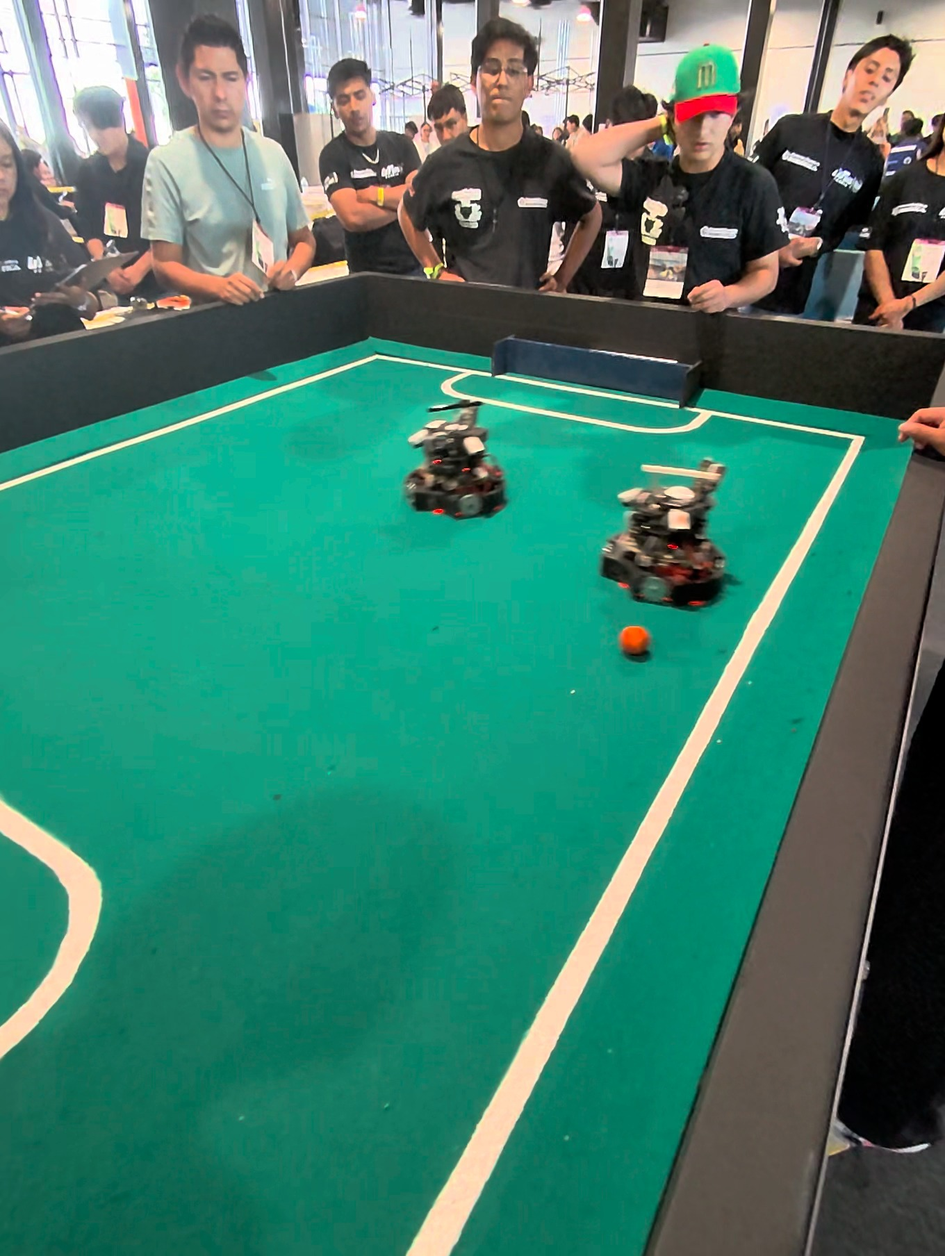Robot: (596, 443, 731, 612), (398, 392, 507, 523)
pelota: (619, 624, 653, 656)
